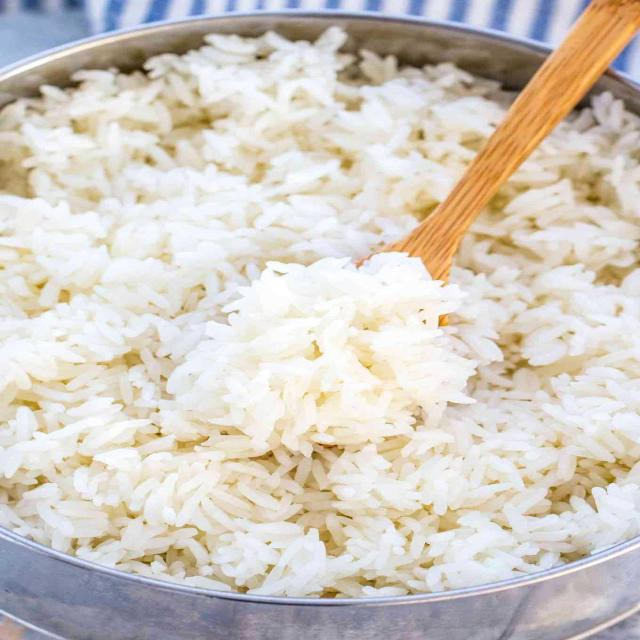rice: (0, 38, 640, 594)
